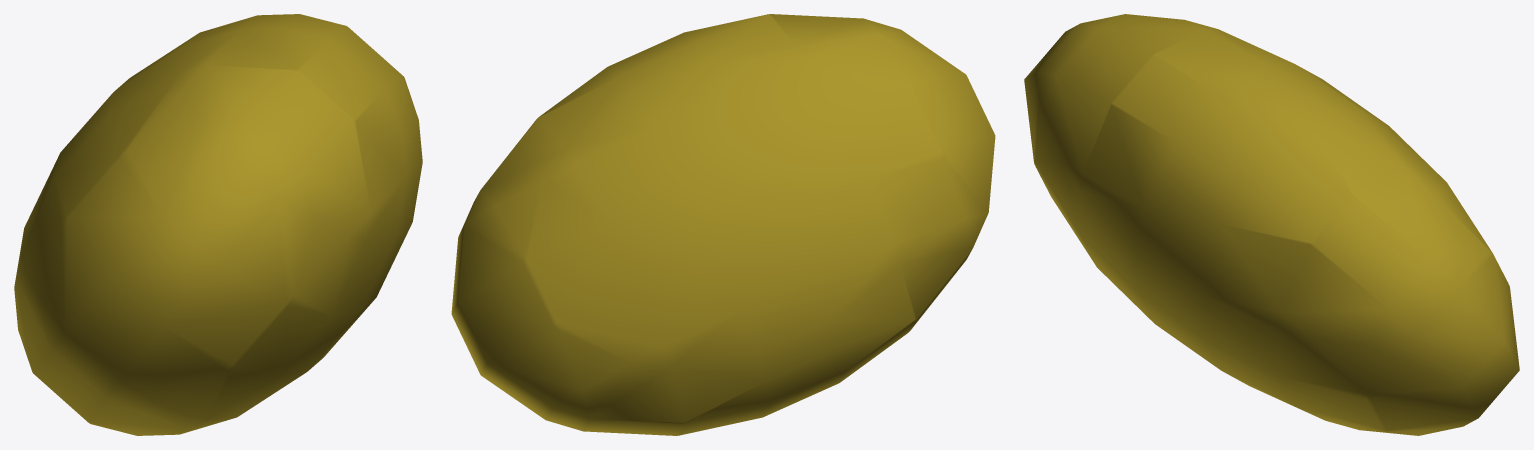
Rendered from bullet.fbx.
3 renders of one model, left to right at view 1: azimuth 30°, elevation 25°; view 2: azimuth 150°, elevation 25°; view 3: azimuth 270°, elevation 25°, orthographic. The views are drawn at different scales.
Parts seen in each view (by area): view 1: Mball; view 2: Mball; view 3: Mball.
Part boxes in pixels (x1,y1,x2,y2): Mball: (14,14,422,435); Mball: (451,14,995,435); Mball: (1024,14,1519,435).
Size of the model in its own units: 46.37 by 37.75 by 48.24.
